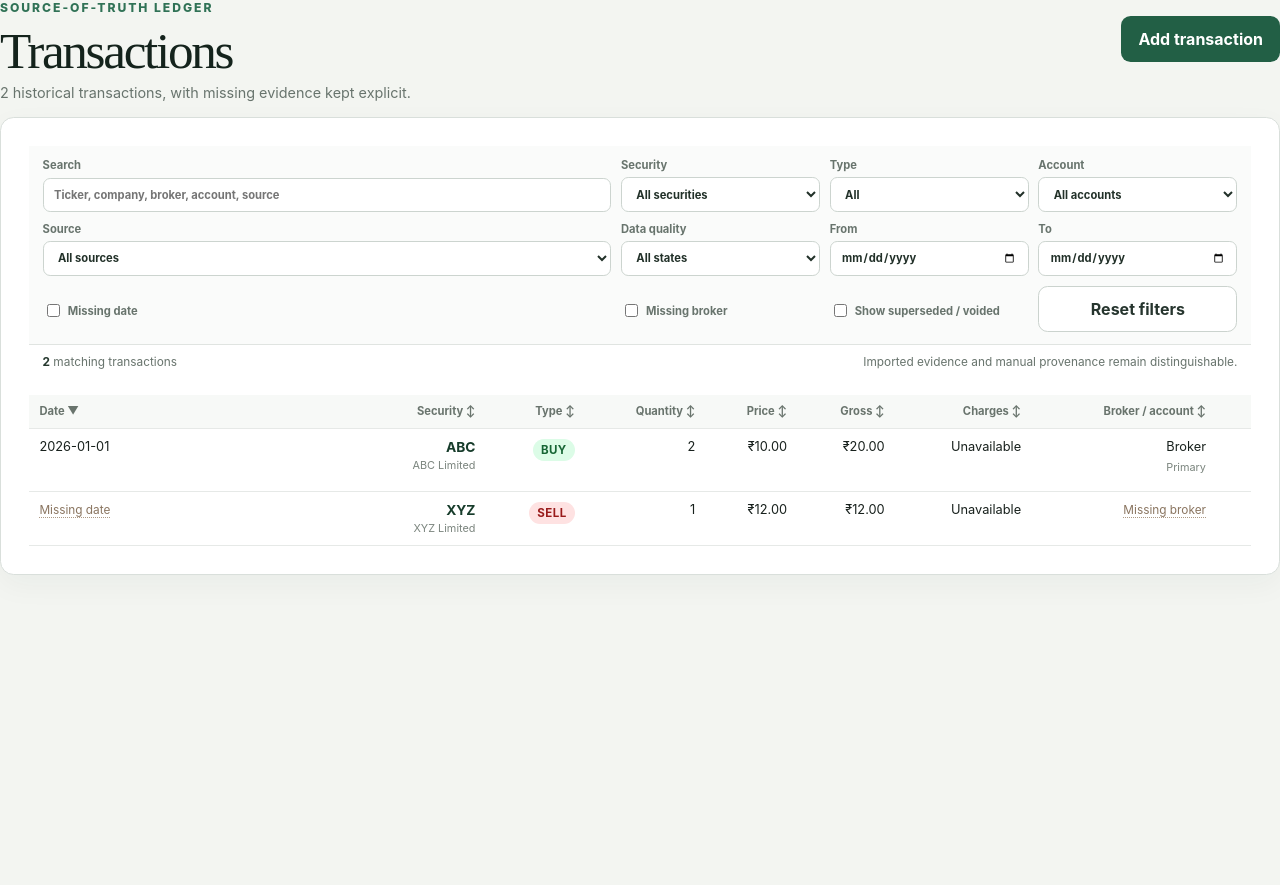
it: TransactionsPage › selects an existing security from the same searchable control
Check: the heading "Transactions" is shown, box [0, 22, 232, 79]
Click the button "Add transaction".
click(1201, 39)  # box [1121, 16, 1279, 62]
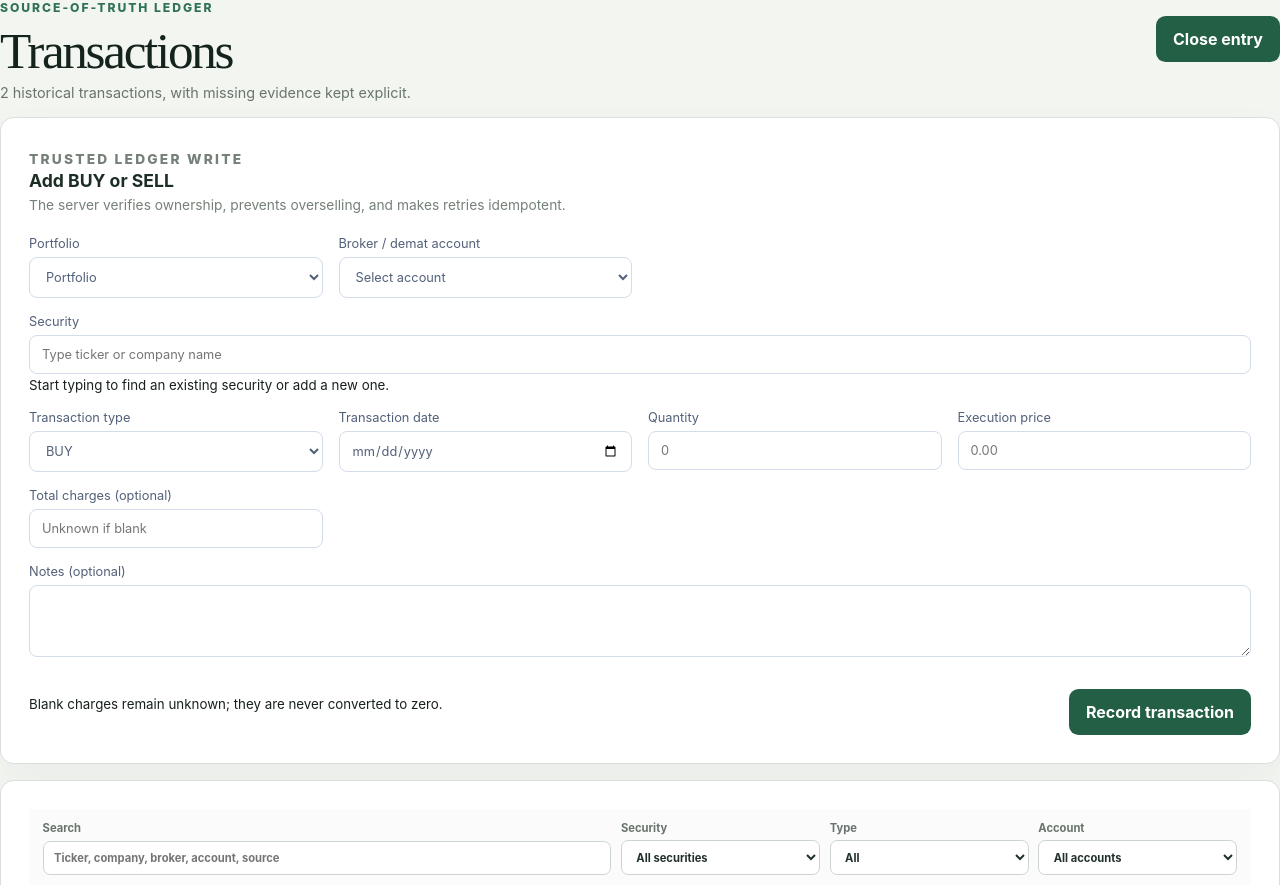
Type "ABC" into the search field with placeholder "Type ticker or company name".
click(640, 355); type("ABC")  # box [29, 335, 1251, 374]
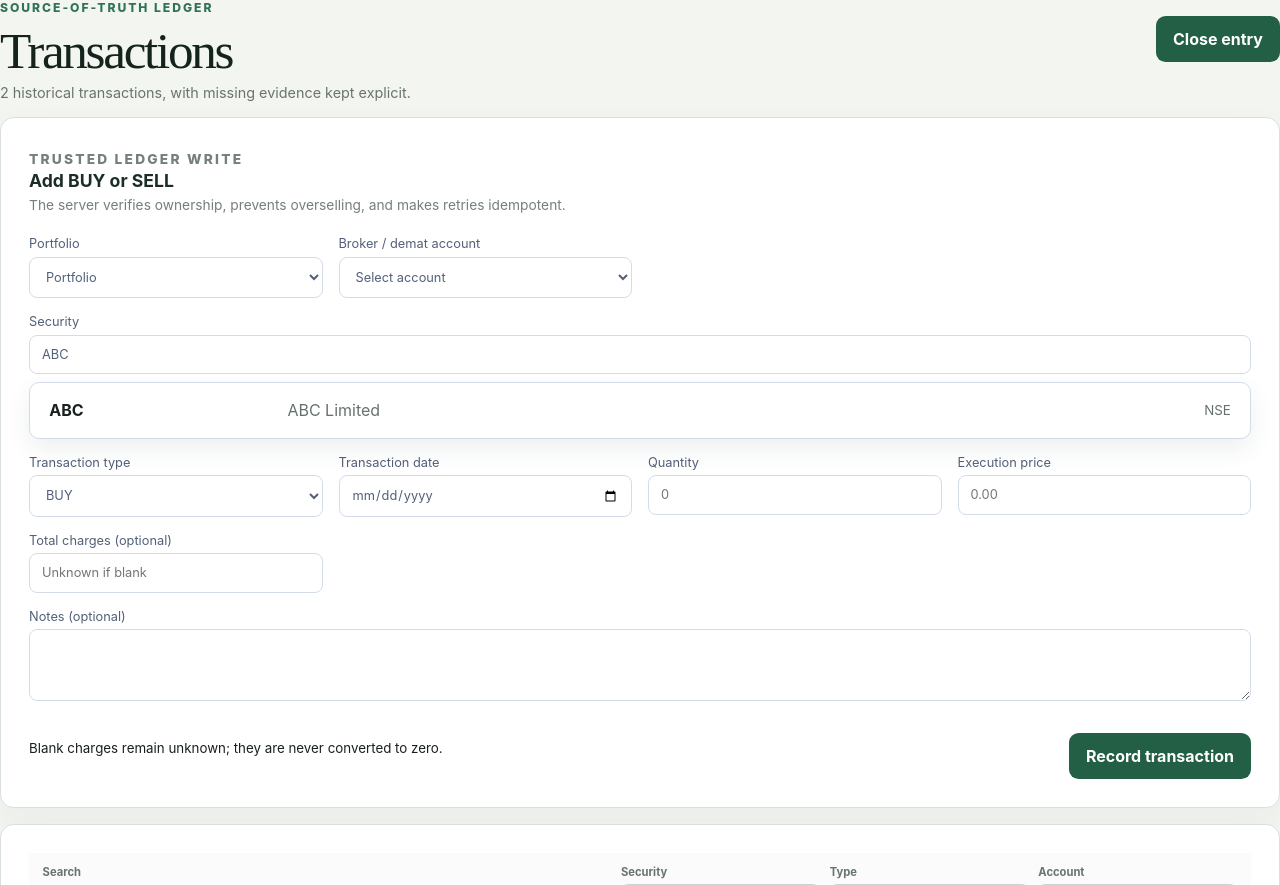
Click the option "ABC ABC Limited NSE".
click(66, 410)  # box [37, 390, 1243, 430]
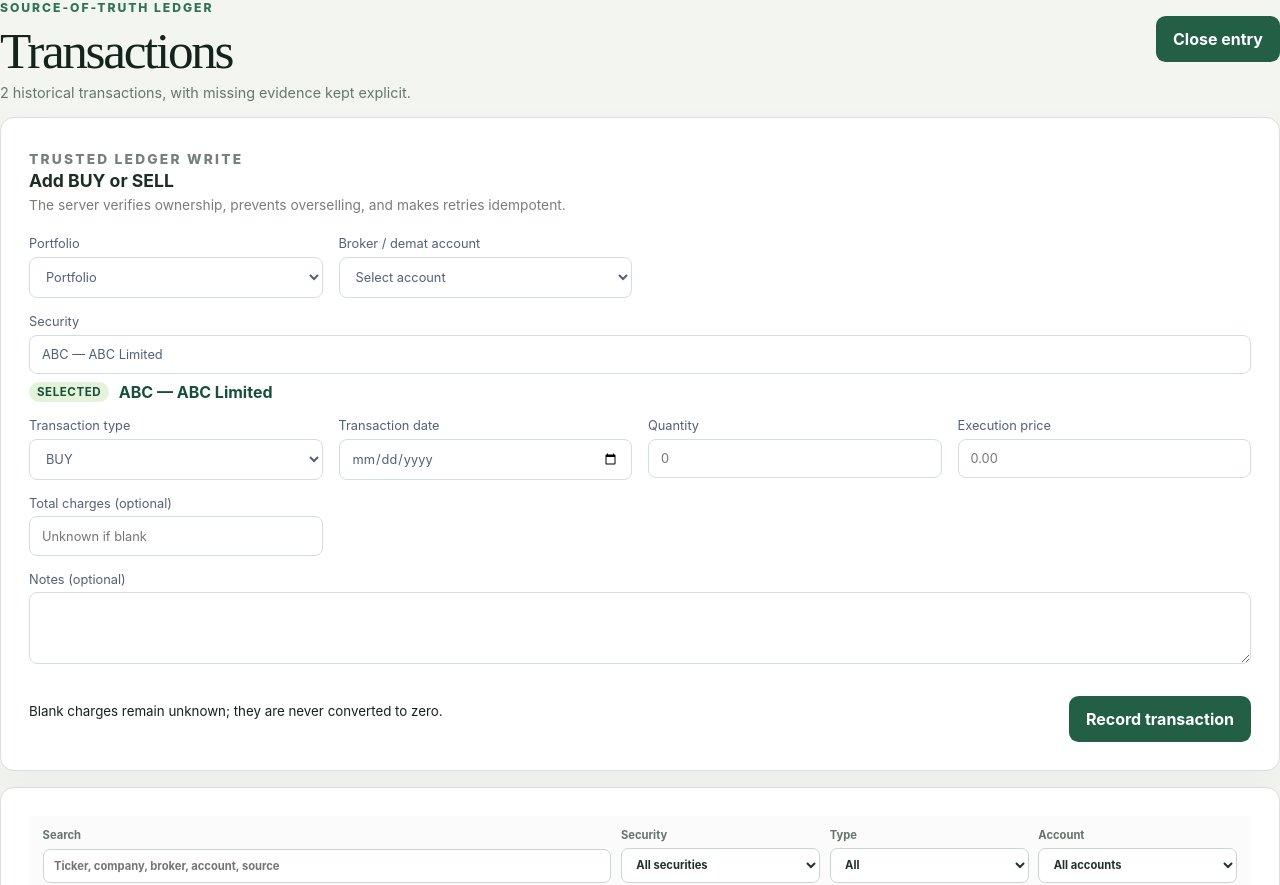
Check: the search field with placeholder "Type ticker or company name" holds "ABC — ABC Limited", box [29, 335, 1251, 374]
Check: the text "Selected" is shown, box [29, 382, 109, 402]
